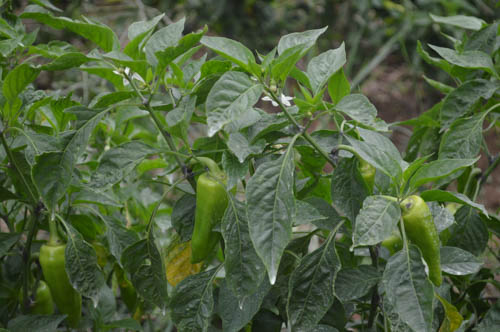ChiliPepper: (398, 198, 441, 284), (191, 177, 229, 267), (44, 247, 85, 319)
